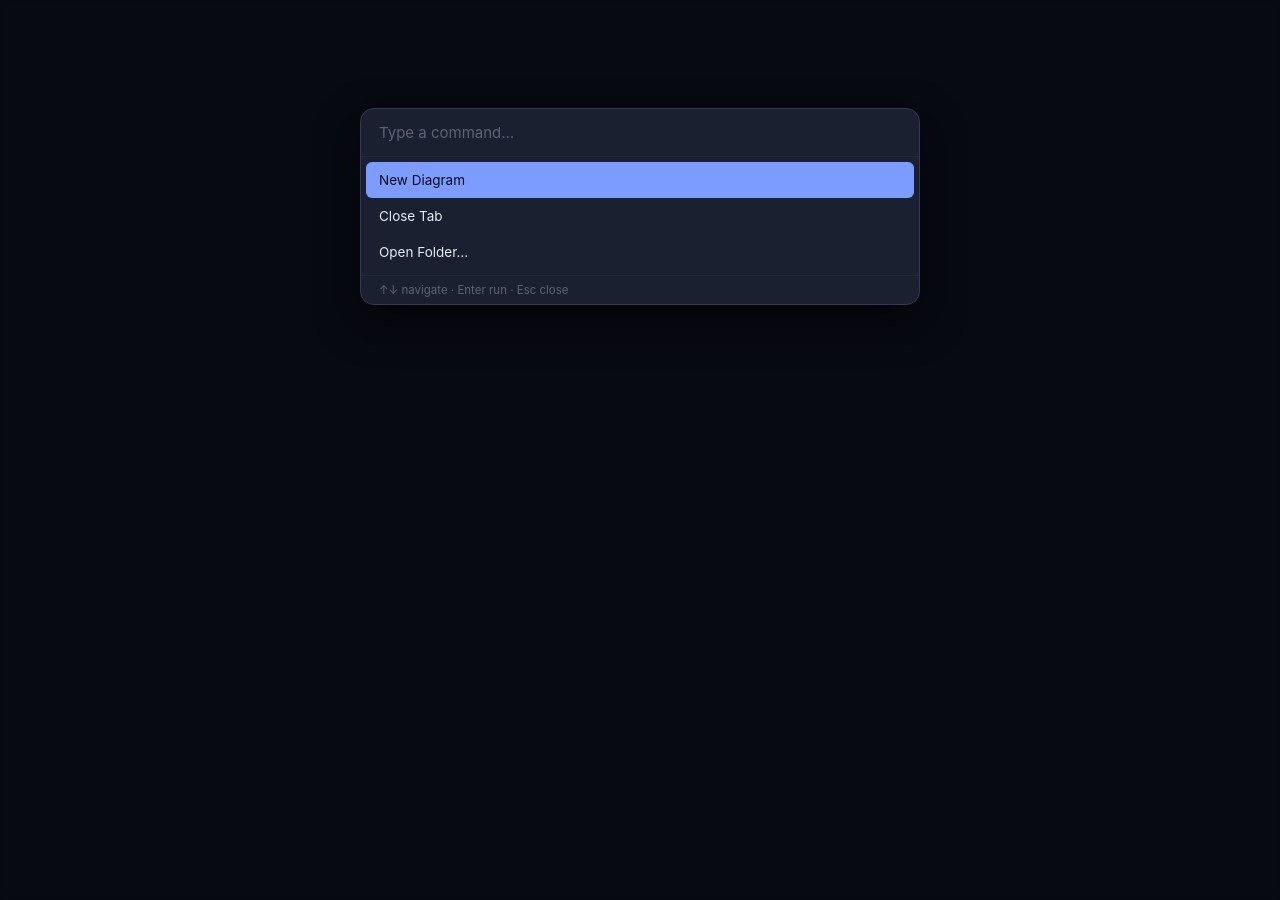
Test: CommandPalette › shows an empty hint when nothing matches
In the field with test id "palette-input": [640, 133] box top-left (361, 109), bottom-right (919, 157), type "nope"
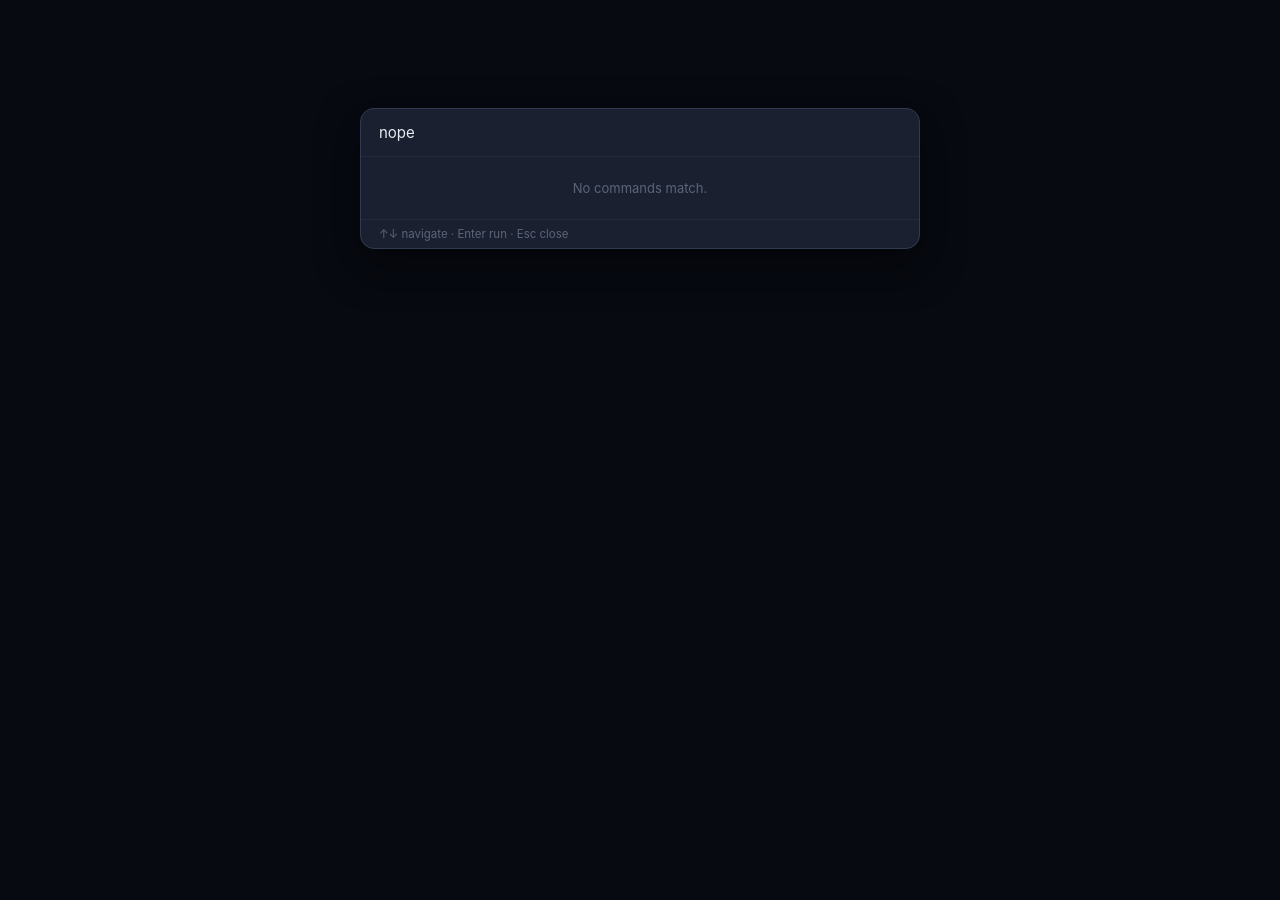
Expected: the option with test id "palette-empty" is shown, top-left (573, 180), bottom-right (707, 196)
Expected: the option with test id "palette-item" is gone
